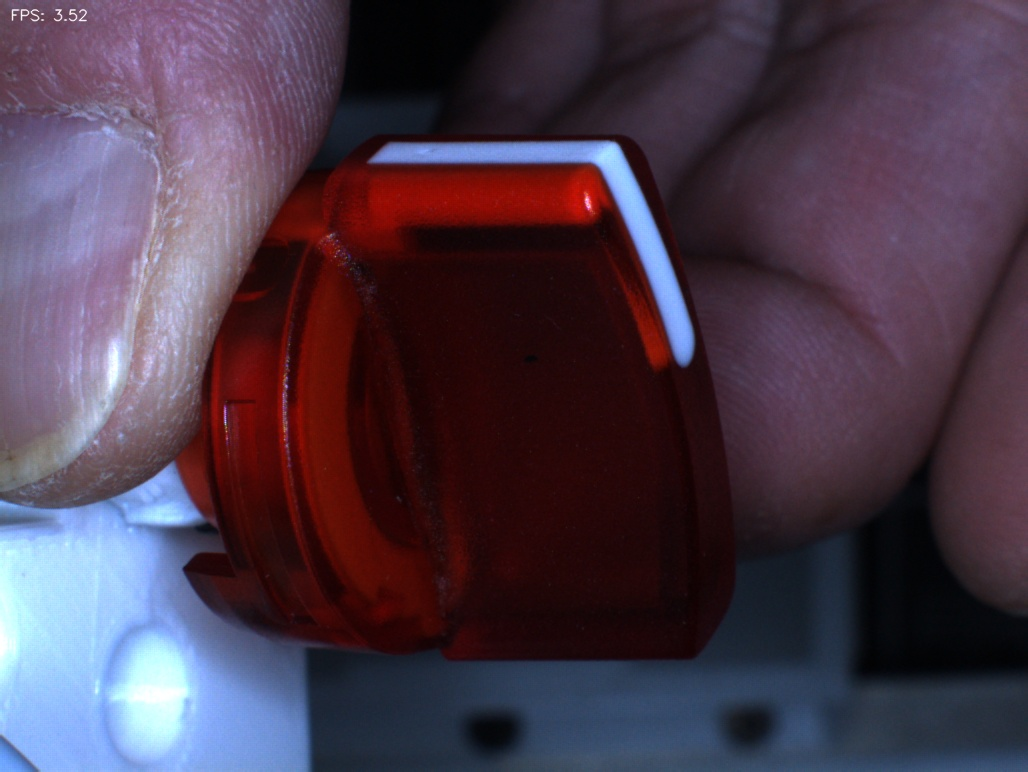PointNoir: (487, 317, 583, 399)
